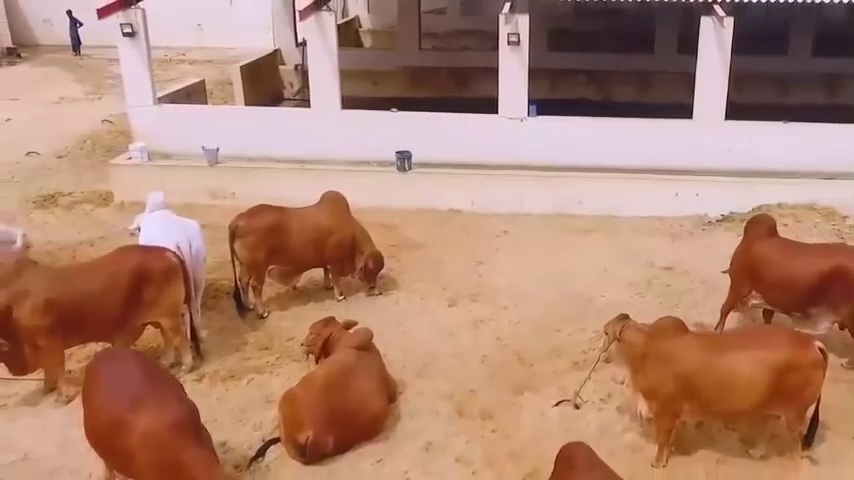bo: (596, 300, 823, 470), (5, 234, 191, 398), (72, 332, 236, 475), (220, 178, 390, 315), (704, 205, 854, 343), (268, 314, 406, 456), (125, 186, 208, 341)
